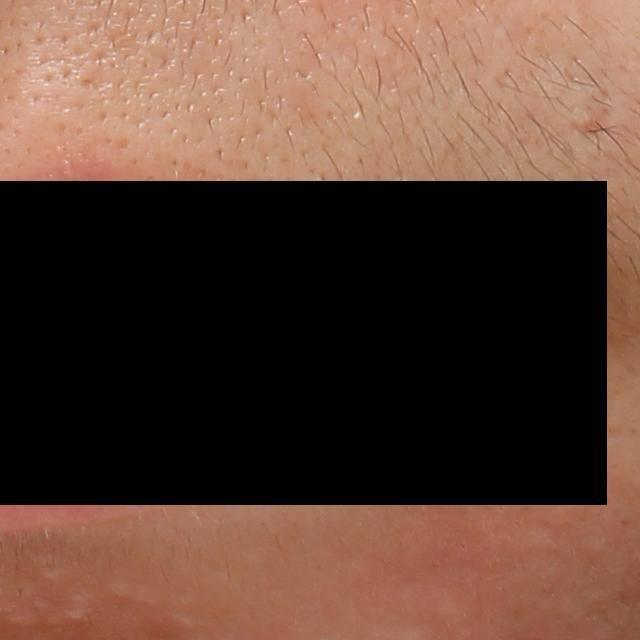hypertrophic_scar: (105, 568, 193, 606), (49, 606, 92, 626), (169, 612, 207, 629), (36, 566, 64, 586), (6, 612, 43, 627)
